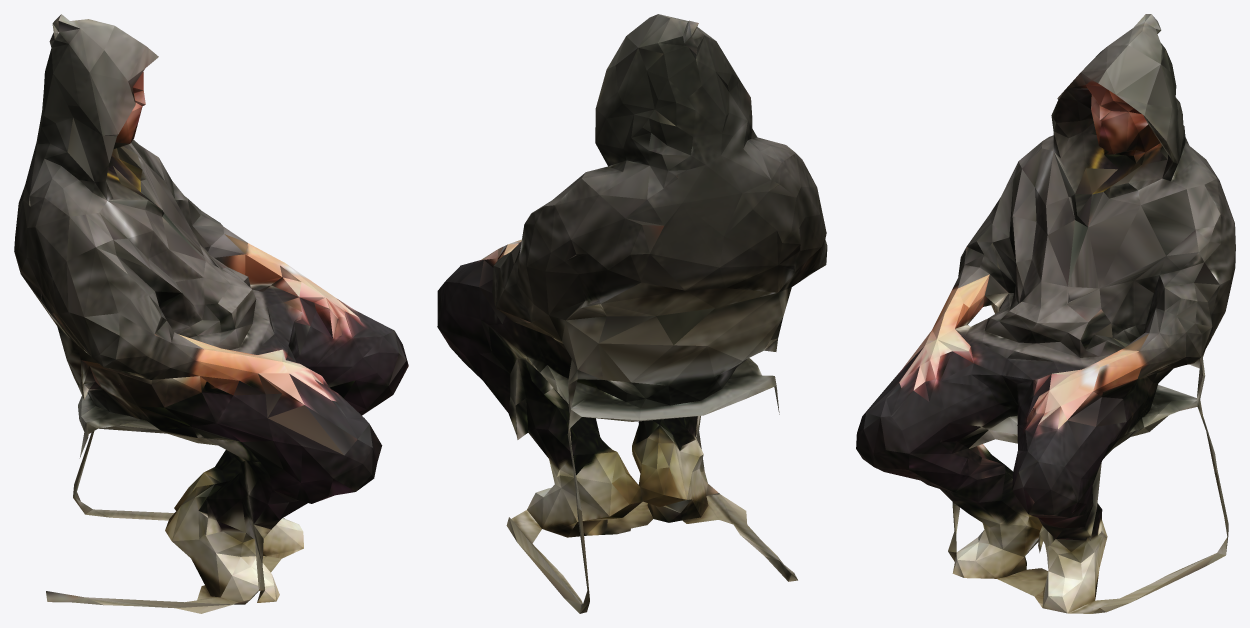
The model's file is Hassan Mesh.glb.
3 views of the same model, side by side, from view 1: azimuth 30°, elevation 25°; view 2: azimuth 150°, elevation 25°; view 3: azimuth 270°, elevation 25° (orthographic). The views are drawn at different scales.
Parts seen in each view (by area): view 1: Hassan2; view 2: Hassan2; view 3: Hassan2.
Part boxes in pixels (x1=…): Hassan2: x1=14, y1=14, x2=408, y2=613; Hassan2: x1=437, y1=14, x2=827, y2=613; Hassan2: x1=856, y1=14, x2=1235, y2=613.
Bounding box in the file's own units: 3.29 × 4.72 × 3.17.
1 material, 1 textured.
